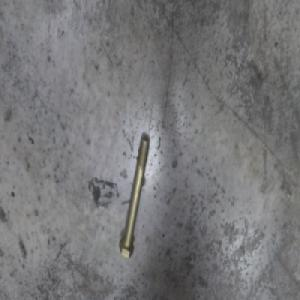Bolt: (119, 136, 153, 256)
